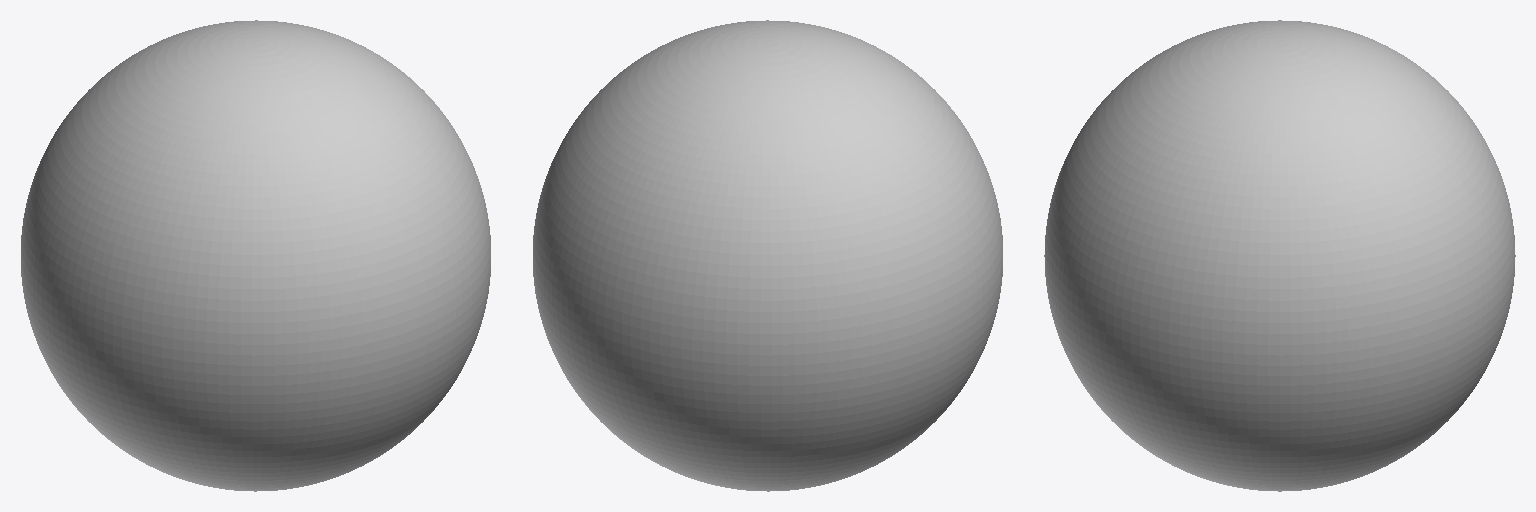
The model's file is sin_nombre.obj.
3 views of the same model, side by side, from view 1: azimuth 30°, elevation 25°; view 2: azimuth 150°, elevation 25°; view 3: azimuth 270°, elevation 25° (orthographic).
Parts seen in each view (by area): view 1: Esfera; view 2: Esfera; view 3: Esfera.
Boxes of the visible parts, x1,y1,x2,y2 form: Esfera: [21, 20, 490, 491]; Esfera: [533, 20, 1002, 491]; Esfera: [1044, 20, 1515, 491].
Size of the model in its own units: 4 by 4 by 4.